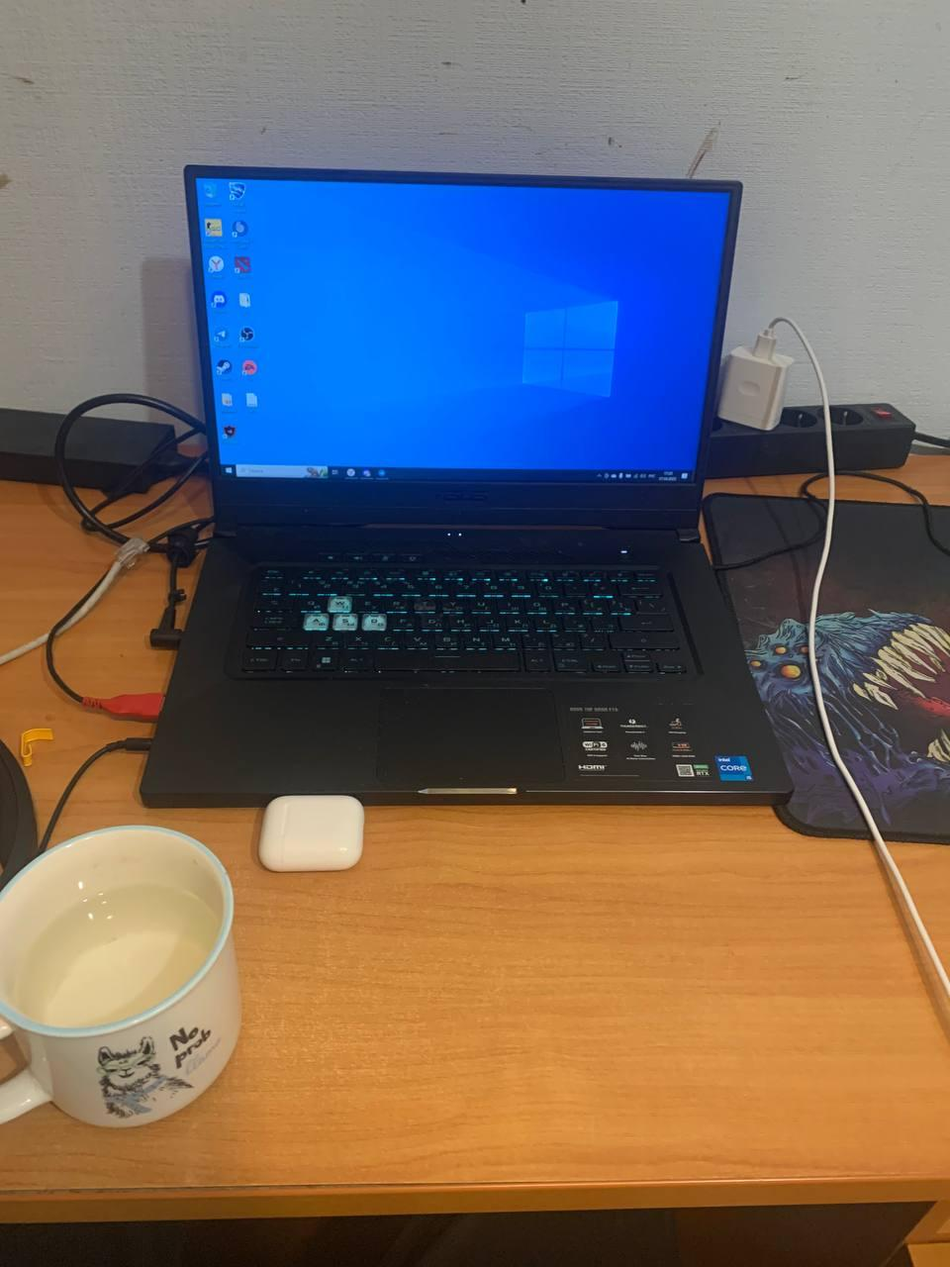monitor: (172, 148, 750, 531)
